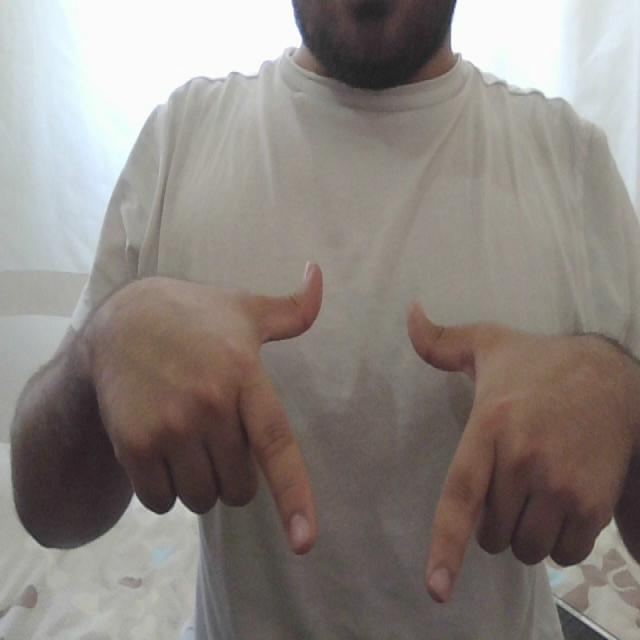Nerede: (223, 252, 518, 612)
